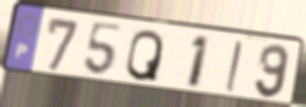1: (188, 34, 210, 92)
5: (81, 20, 126, 80)
7: (45, 15, 82, 74)
9: (254, 42, 292, 101)
I: (224, 39, 245, 95)
Q: (124, 28, 166, 83)
